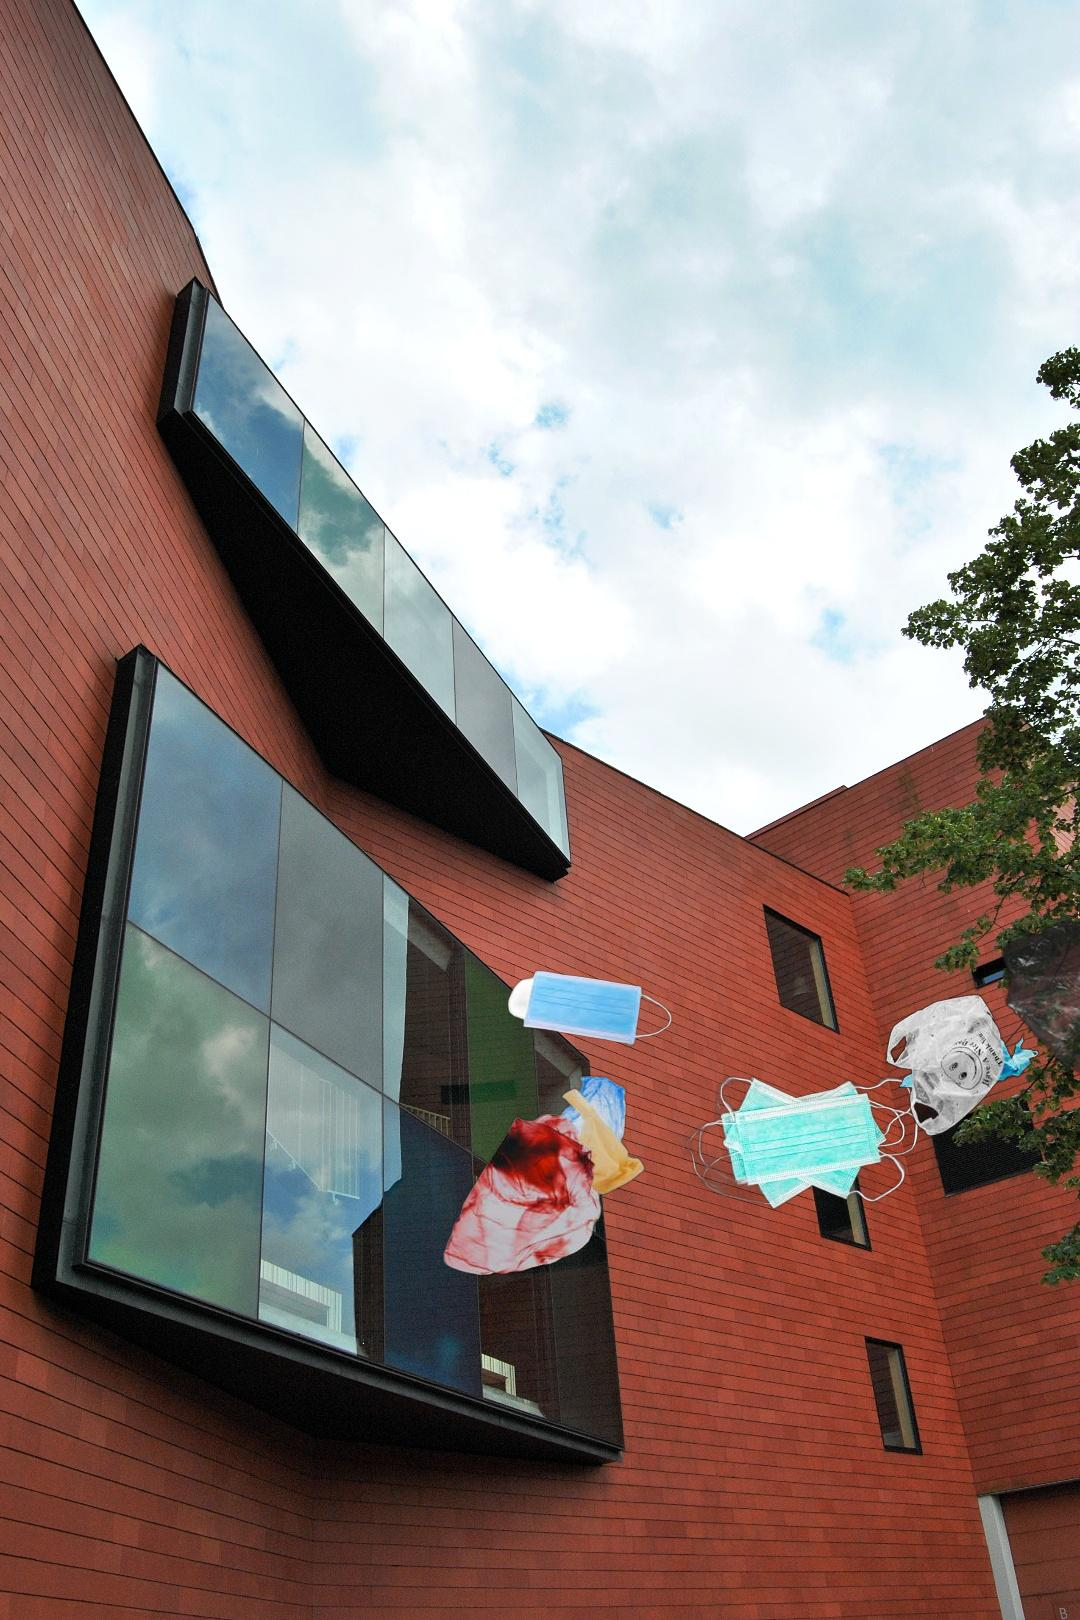plastic-bag: (884, 911, 1080, 1137), (439, 1073, 648, 1279)
trash: (681, 1074, 923, 1213), (505, 968, 675, 1047)
